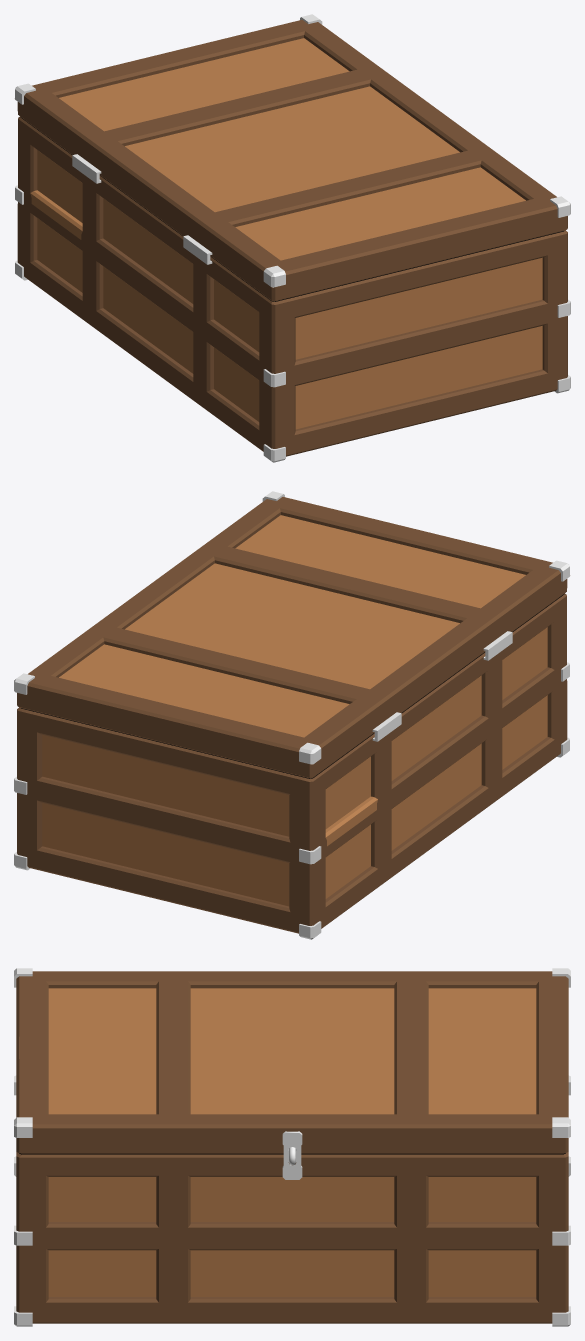
Rendered from chest.fbx.
3 renders of one model, top to bottom at view 1: azimuth 30°, elevation 25°; view 2: azimuth 150°, elevation 25°; view 3: azimuth 270°, elevation 25°, orthographic. The views are drawn at different scales.
Visible parts, largest first — view 1: chest, hinges; view 2: chest, hinges; view 3: chest, lock.
Part boxes in pixels (box(x1,y1,x2,y2)): chest: box(14, 14, 570, 462); hinges: box(72, 154, 212, 264); chest: box(14, 491, 570, 939); hinges: box(372, 631, 512, 741); chest: box(14, 968, 570, 1326); lock: box(282, 1131, 302, 1179).
Size of the model in its own units: 210 by 122 by 303.
